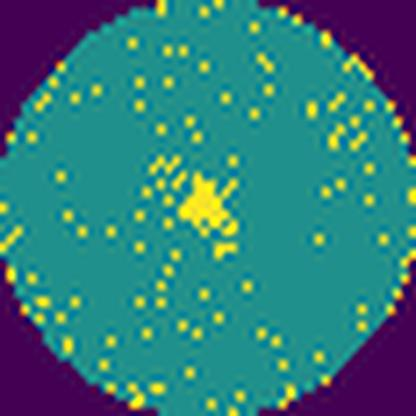Center: (181, 171, 237, 234)
